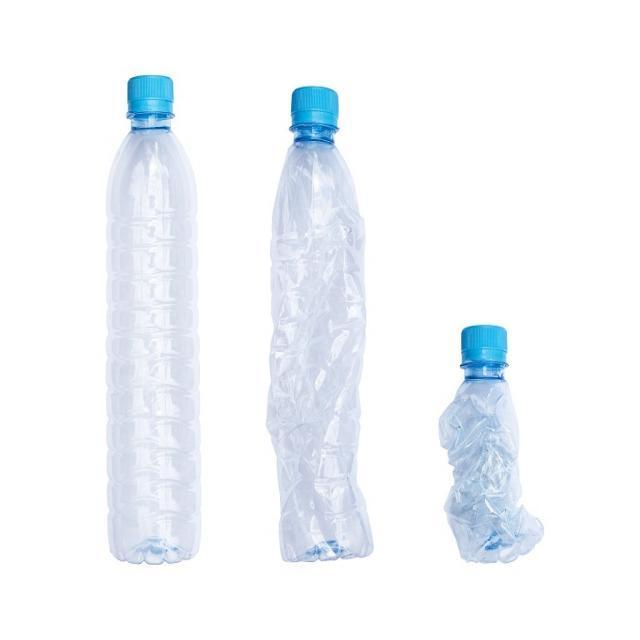blue: (264, 138, 368, 564), (104, 115, 198, 567), (437, 362, 545, 565)
